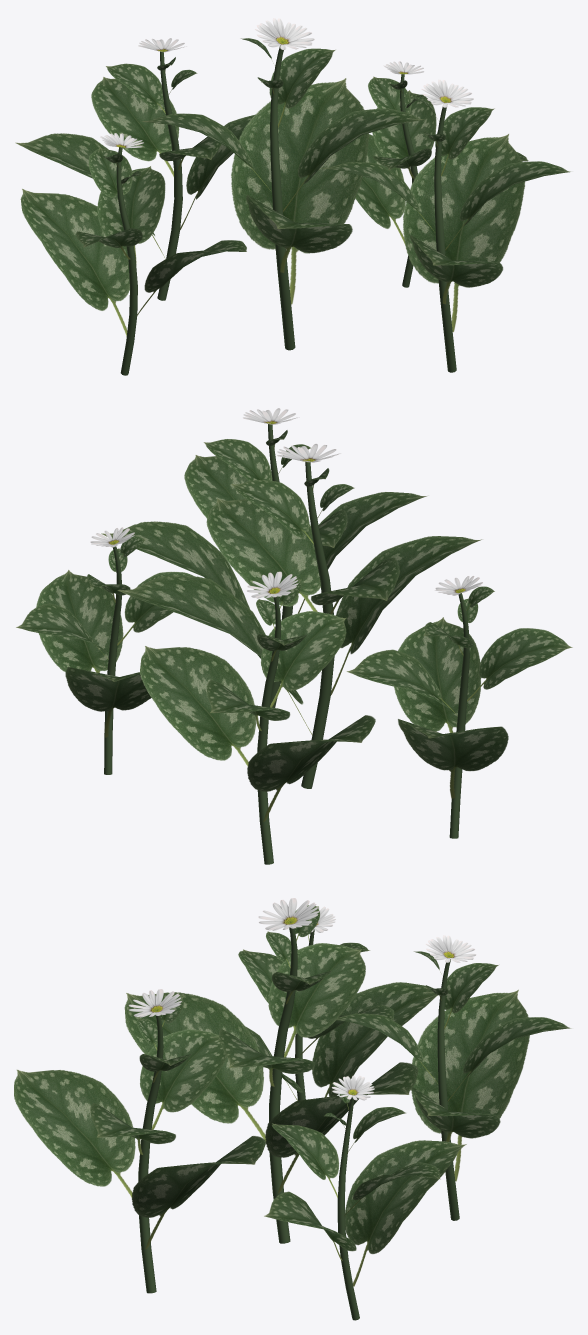
The model's file is flowering_plant_free.glb.
3 views of the same model, one above another, from view 1: azimuth 30°, elevation 25°; view 2: azimuth 150°, elevation 25°; view 3: azimuth 270°, elevation 25° (orthographic). The views are drawn at different scales.
Parts seen in each view (by area): view 1: Plant_Cluster; view 2: Plant_Cluster; view 3: Plant_Cluster.
Boxes of the visible parts, x1,y1,x2,y2 form: Plant_Cluster: (15, 18, 570, 375); Plant_Cluster: (16, 408, 572, 864); Plant_Cluster: (14, 898, 571, 1320).
Bounding box in the file's own units: 0.7866 × 0.5186 × 0.7855.
Materials: 1 (1 with a texture image).
